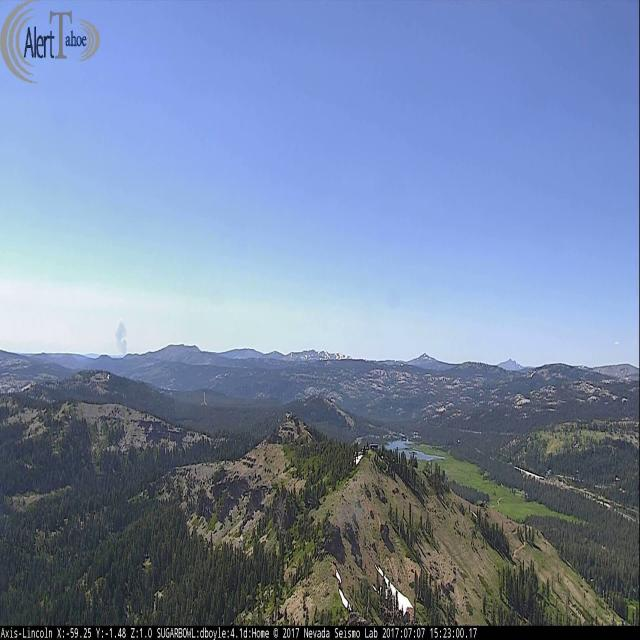smoke: (113, 318, 128, 359)
